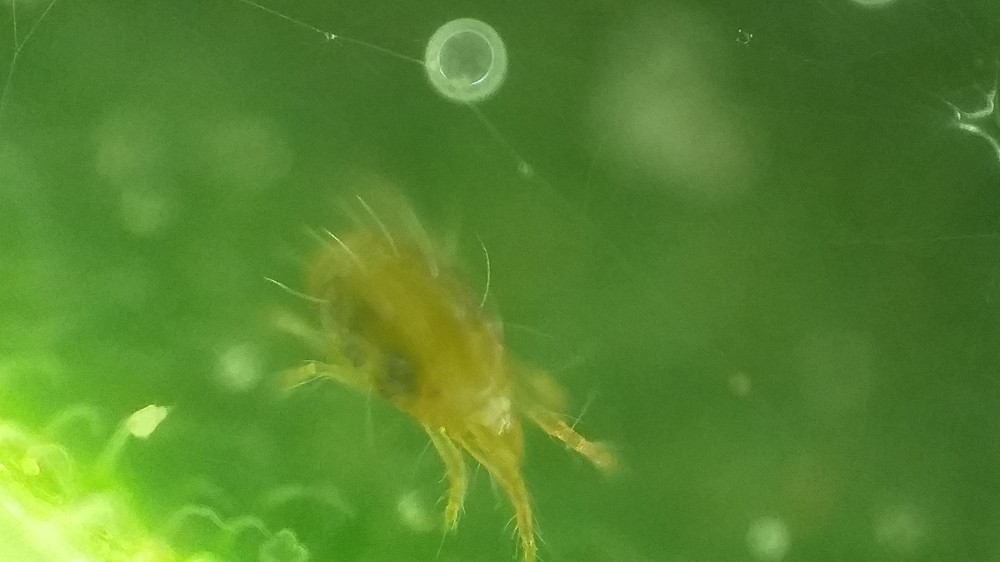Aracnido Rojo: (243, 182, 644, 558)
